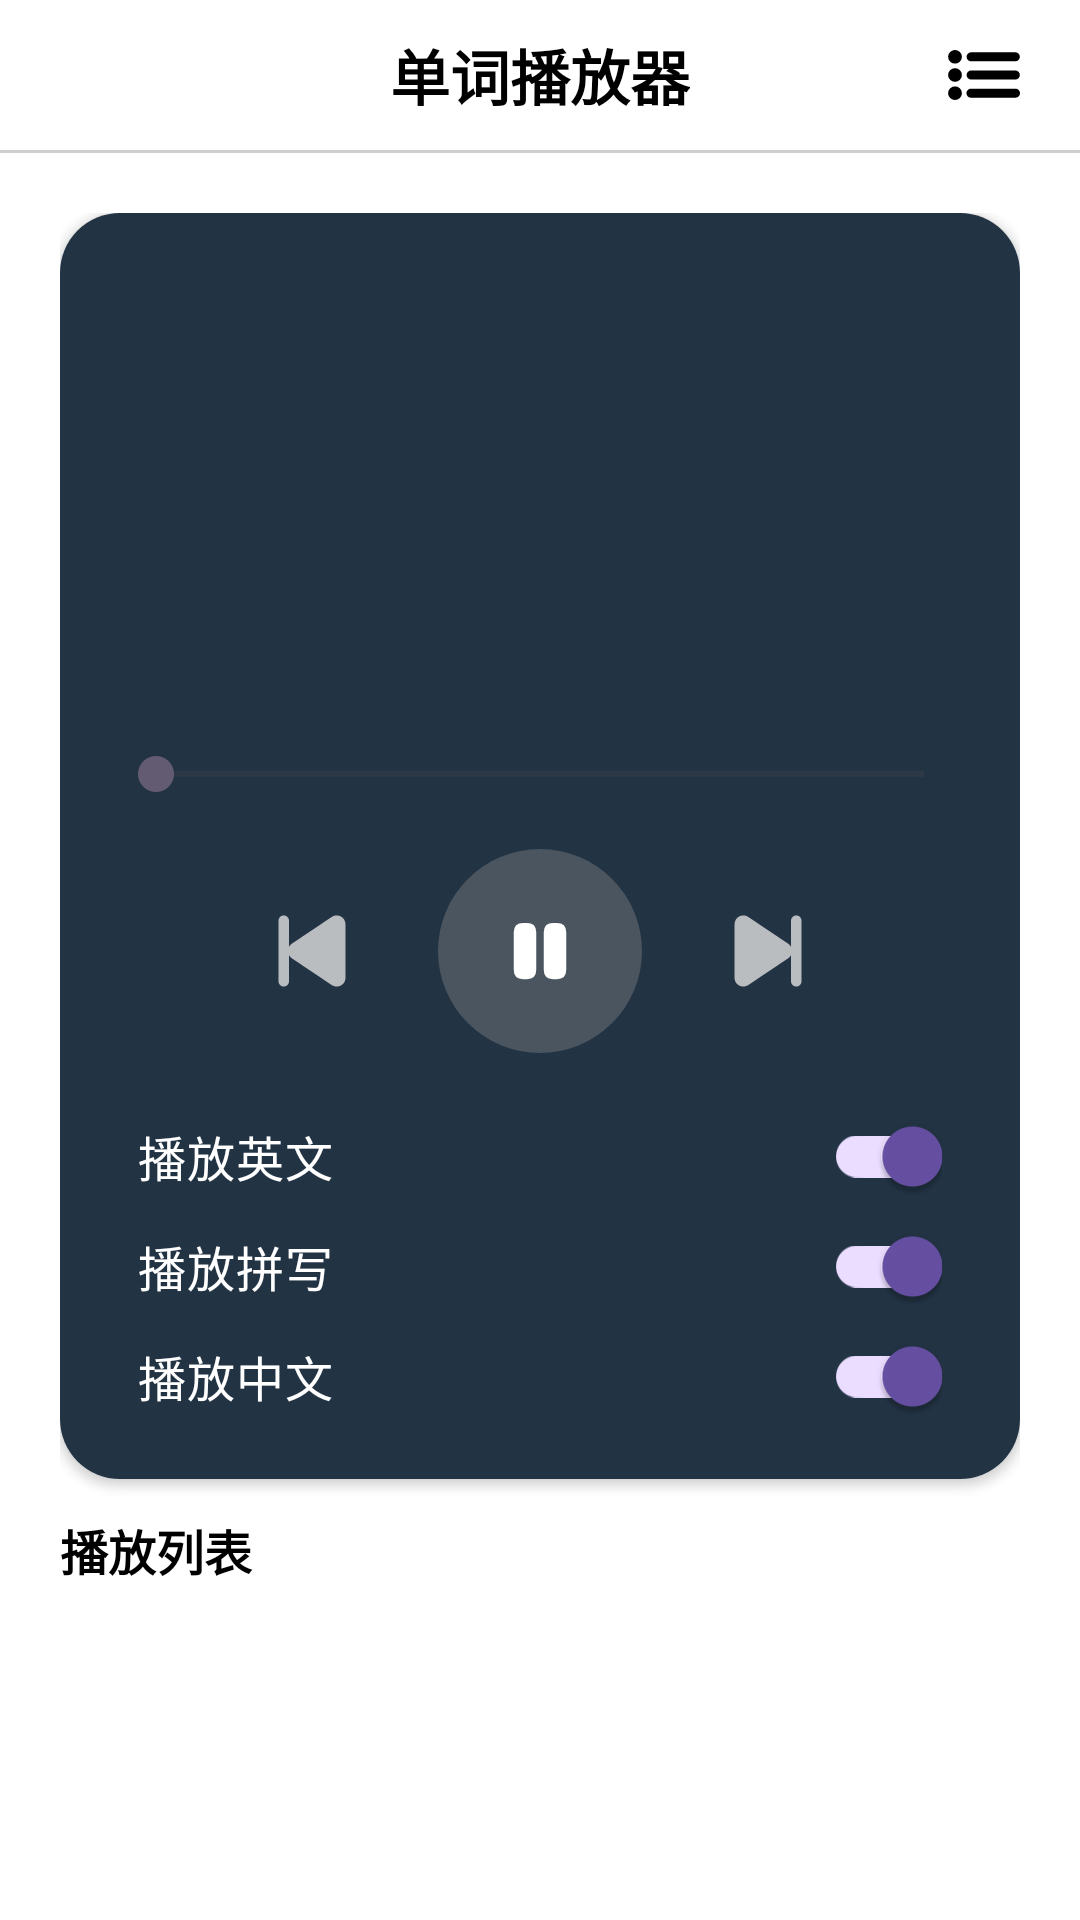

Where icons sit on this 1080×1920 app screen, as (x1, y1, x2, y2):
上一个: (278, 915, 346, 987)
播放列表: (948, 50, 1020, 100)
暂停: (438, 849, 642, 1053)
